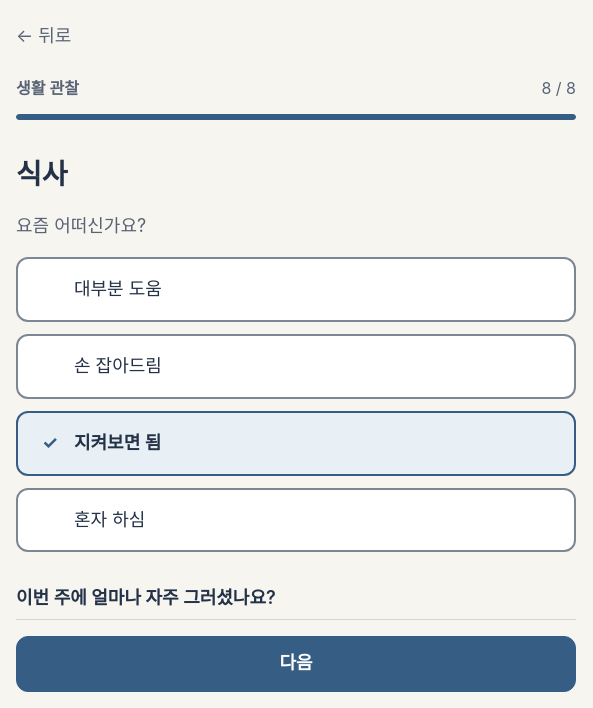
it: 온보딩 기준선 › 데모 모드는 별도 초안과 생성 API를 쓰고 일반 토큰을 보존한다
Click the button "다음" at (296, 664), box left=16, top=636, right=576, bottom=692
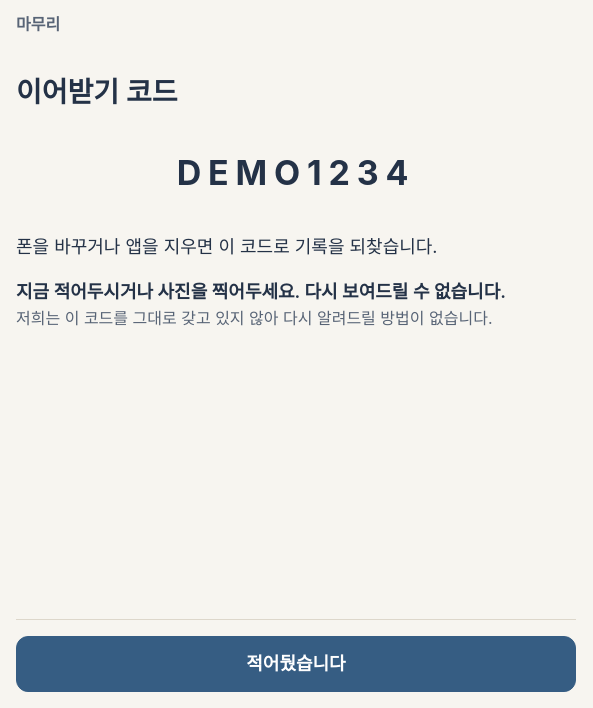
Result: the text "DEMO1234" is shown at left=177, top=152, right=415, bottom=193
